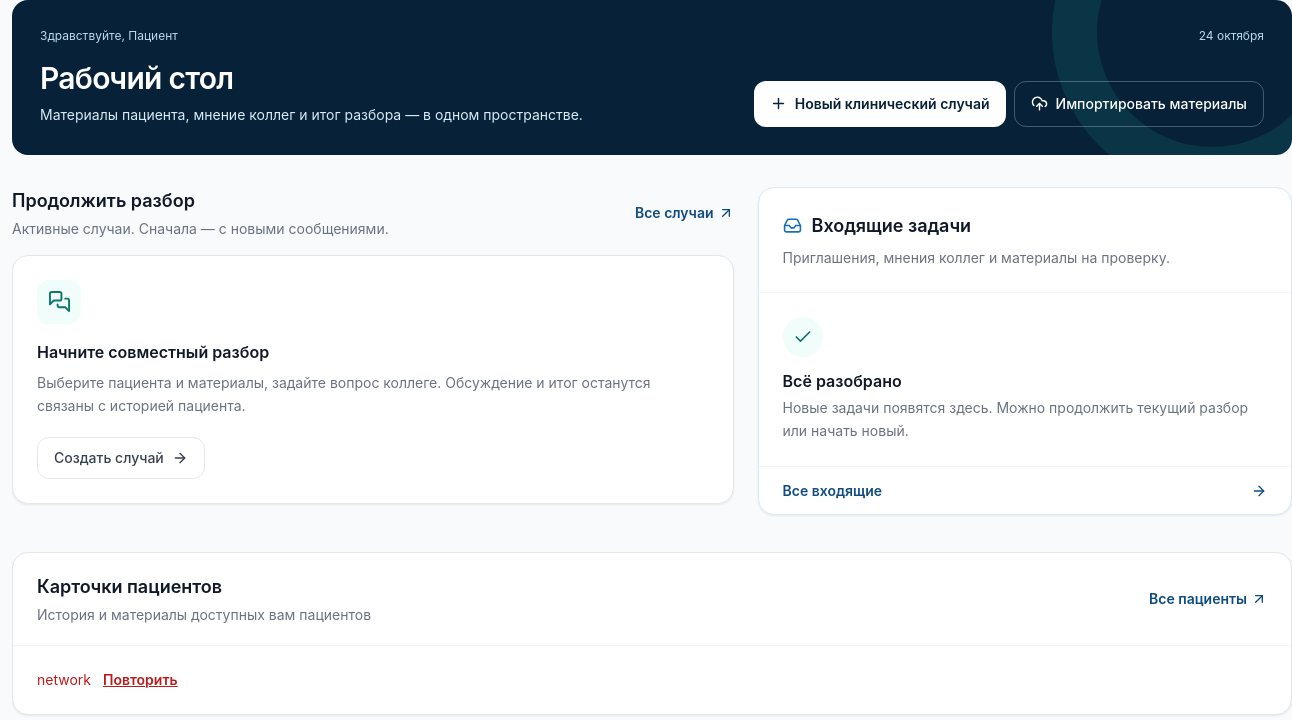
does not infer doctor onboarding from failed patient loading and retries it
The image size is (1292, 720).
Expected: the text "network" is shown, x1=37 y1=671 x2=91 y2=688
Expected: the link "Добавить пациента" is not shown
Click the button "Повторить" at (140, 680), box x1=103 y1=670 x2=178 y2=690
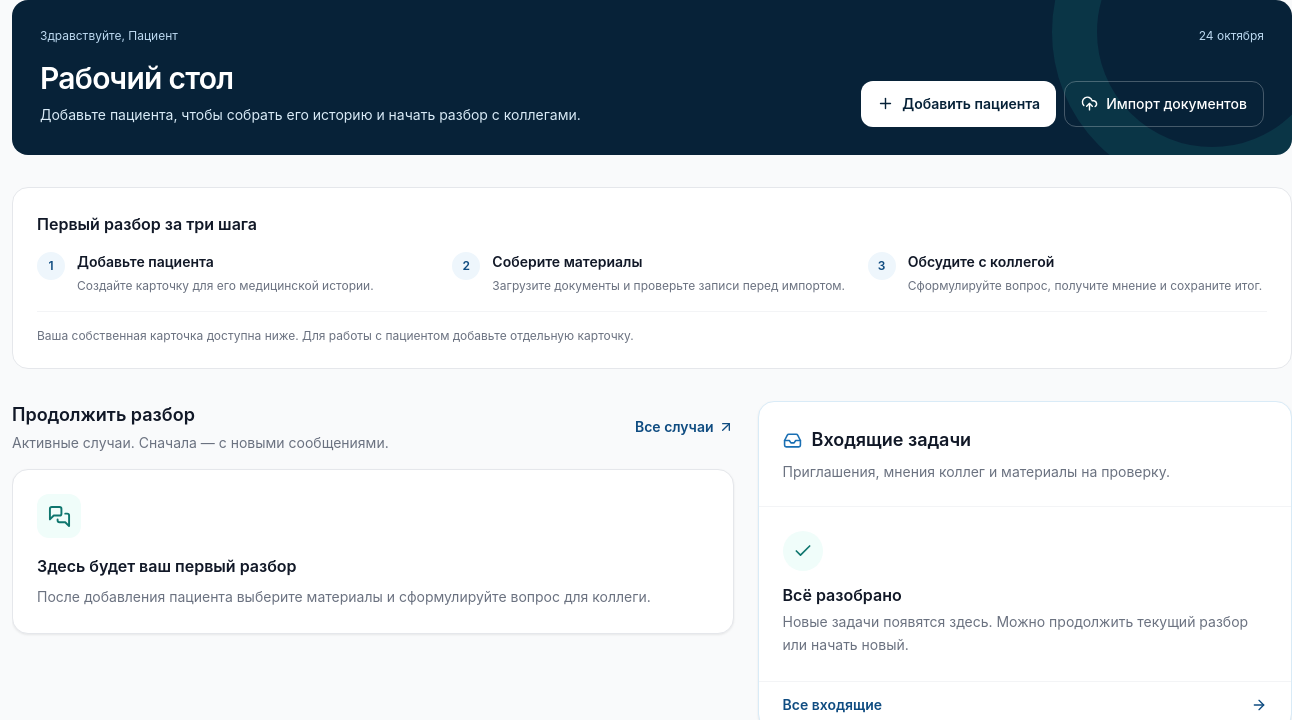
Expected: the link "Импорт документов" is shown, x1=1064 y1=81 x2=1264 y2=127
